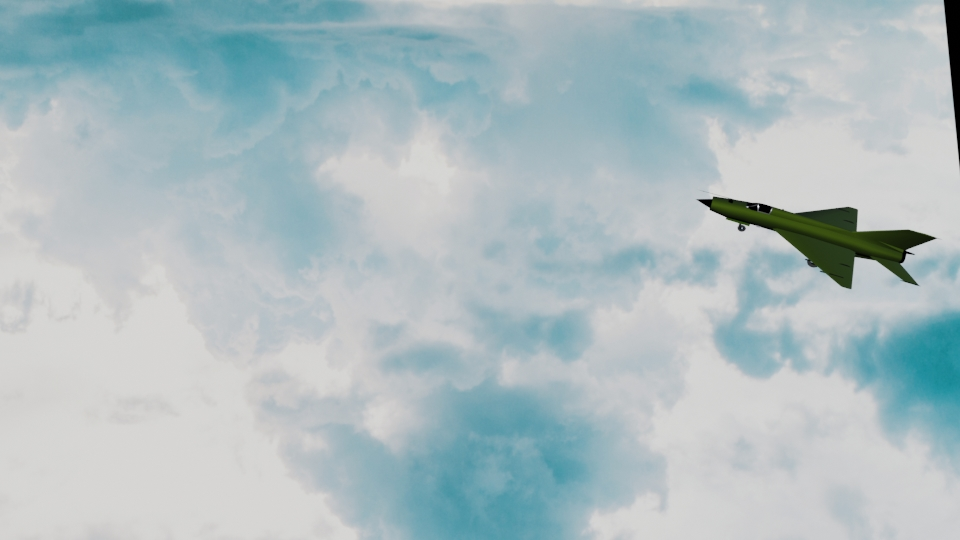plane: (692, 187, 935, 291)
